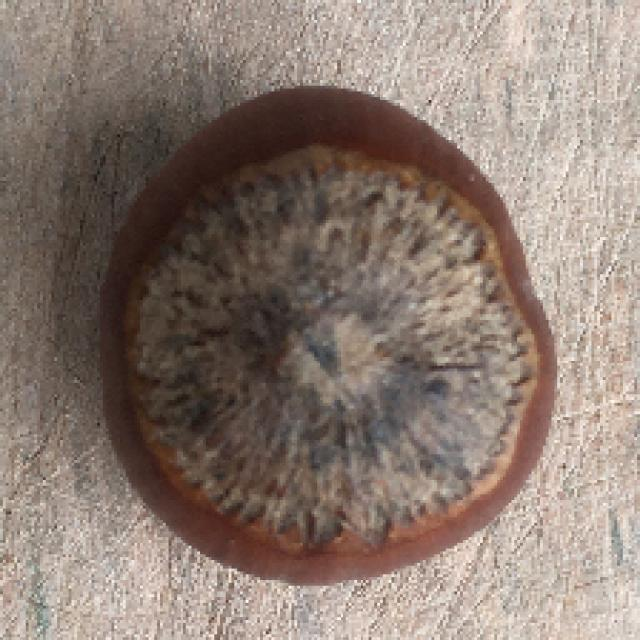damagedHazelnut: (100, 80, 572, 586)
